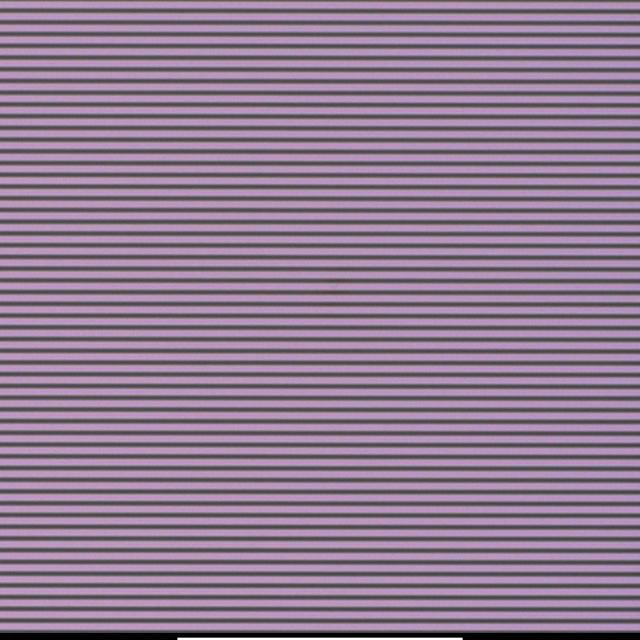nonvisual: (293, 277, 304, 293)
